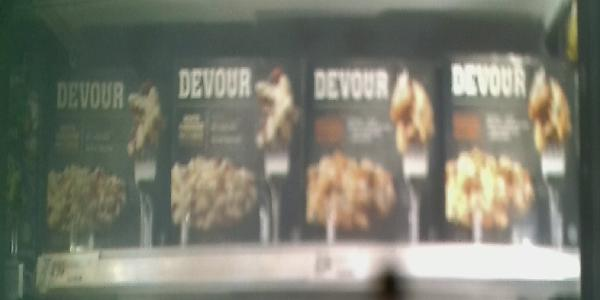pizza1: (304, 54, 445, 243), (164, 54, 301, 244), (445, 54, 579, 245), (38, 70, 162, 248)
